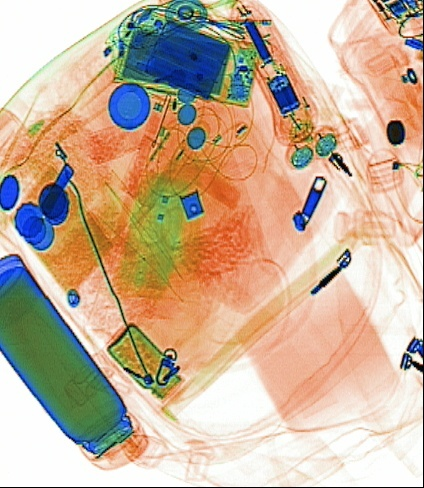powerbank: (116, 4, 233, 101)
